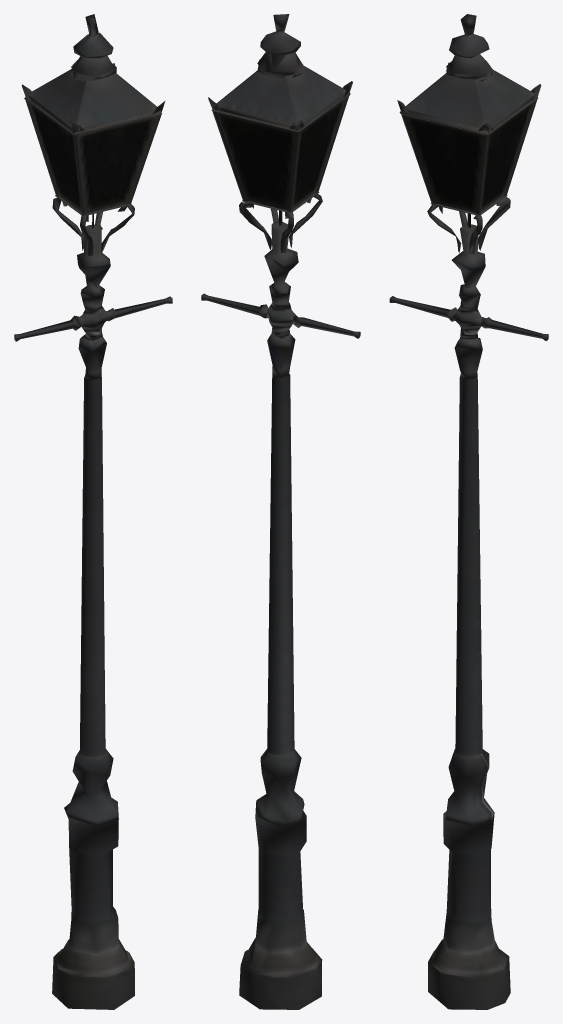
The model's file is ph_streetlamp_1.glb.
The picture shows the model from 3 angles, left to right: view 1: azimuth 30°, elevation 25°; view 2: azimuth 150°, elevation 25°; view 3: azimuth 330°, elevation 25°; orthographic projection.
Visible parts, largest first — view 1: ph_streetlamp_1; view 2: ph_streetlamp_1; view 3: ph_streetlamp_1.
Boxes of the visible parts, bbox=[...] form: ph_streetlamp_1: bbox=[14, 14, 172, 1009]; ph_streetlamp_1: bbox=[201, 14, 360, 1009]; ph_streetlamp_1: bbox=[389, 14, 548, 1009].
Size of the model in its own units: 0.6434 by 3.86 by 0.3863.
Materials: 3 (3 with a texture image).
